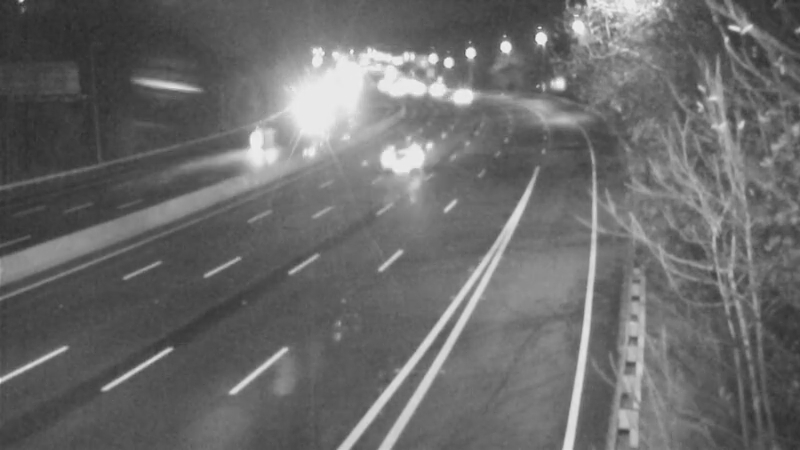vehicle: (371, 119, 451, 199), (437, 73, 487, 123), (235, 119, 285, 169)
